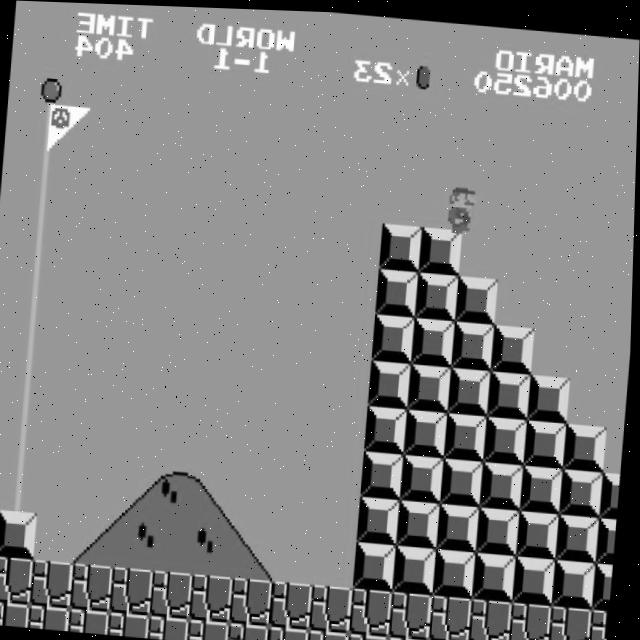11- little_mario: (440, 179, 487, 231)
17- undestructible_block: (392, 588, 436, 638), (432, 591, 476, 640), (352, 585, 396, 634), (312, 582, 356, 631), (272, 579, 316, 628), (232, 575, 276, 624), (192, 572, 236, 621), (153, 569, 197, 618), (113, 566, 157, 615), (73, 563, 117, 612), (33, 559, 77, 608), (472, 595, 516, 640), (512, 598, 556, 640), (0, 556, 37, 605), (551, 601, 595, 640), (71, 607, 113, 634), (31, 604, 73, 631), (151, 614, 193, 640), (111, 611, 153, 637), (191, 617, 233, 640), (0, 601, 34, 627), (231, 621, 273, 640), (270, 623, 313, 640), (592, 604, 612, 640), (310, 627, 353, 640), (350, 631, 393, 640), (390, 634, 433, 640), (430, 637, 472, 640)
7- goal_pole: (20, 191, 65, 240), (17, 237, 62, 286), (31, 54, 75, 104), (28, 99, 72, 149), (7, 373, 51, 423), (0, 464, 44, 514), (14, 282, 58, 331), (3, 419, 47, 468), (24, 146, 68, 194), (10, 328, 54, 376)
9- hard_block: (558, 510, 603, 559), (518, 507, 563, 556), (478, 504, 523, 553), (475, 549, 520, 598), (435, 546, 480, 595), (376, 266, 421, 315), (515, 552, 559, 602), (486, 412, 530, 462), (456, 272, 500, 322), (446, 409, 490, 459), (416, 269, 460, 319), (396, 542, 440, 592), (366, 402, 410, 452), (419, 224, 464, 272), (566, 419, 610, 468), (555, 556, 599, 605), (526, 416, 570, 465), (492, 321, 536, 370), (482, 458, 526, 507), (453, 318, 497, 367), (439, 501, 483, 550), (413, 315, 457, 364), (406, 406, 450, 455), (399, 497, 443, 546), (373, 312, 417, 361), (362, 448, 406, 497), (359, 494, 403, 543), (356, 539, 400, 588), (562, 465, 606, 513), (529, 370, 573, 418), (522, 462, 566, 510), (489, 367, 533, 415), (449, 364, 493, 412), (442, 455, 486, 503), (409, 361, 453, 409), (402, 452, 446, 500), (380, 221, 424, 269), (369, 358, 413, 406), (0, 510, 41, 559), (596, 558, 616, 606), (603, 467, 623, 514), (599, 513, 619, 560)
